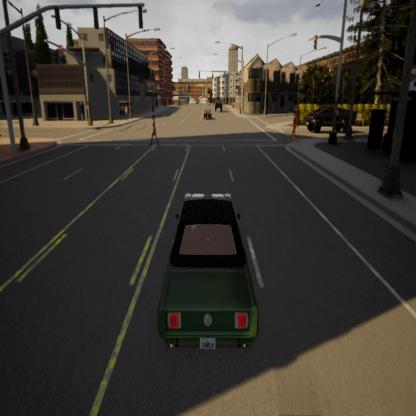Cars: (158, 191, 260, 351), (306, 102, 356, 134), (214, 95, 224, 115), (202, 108, 212, 124)
Pedestrian: (290, 108, 299, 141), (150, 112, 158, 146)
